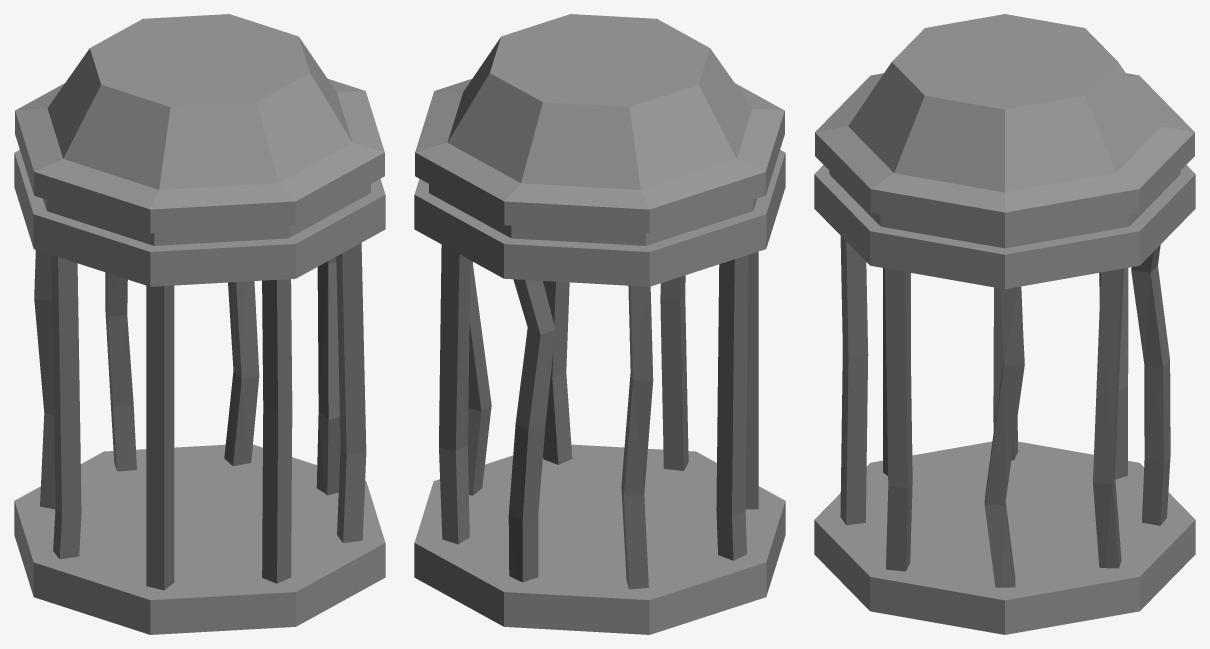
Rendered from LPCP_Cage01.fbx.
3 renders of one model, left to right at view 1: azimuth 30°, elevation 25°; view 2: azimuth 150°, elevation 25°; view 3: azimuth 270°, elevation 25°, orthographic.
Parts seen in each view (by area): view 1: LPCP_Cage01; view 2: LPCP_Cage01; view 3: LPCP_Cage01.
Boxes of the visible parts, x1,y1,x2,y2 form: LPCP_Cage01: (14, 14, 385, 634); LPCP_Cage01: (414, 14, 785, 634); LPCP_Cage01: (814, 14, 1195, 634).
Bounding box in the file's own units: 2 × 2.85 × 2.
